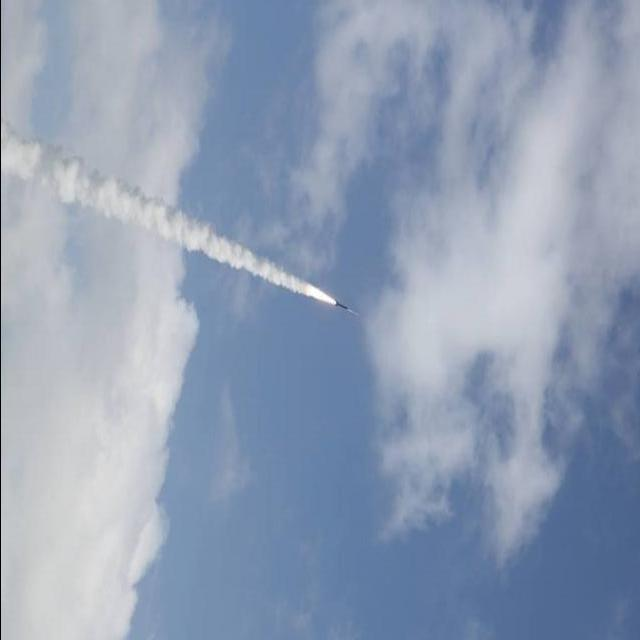missile: (334, 289, 363, 325)
